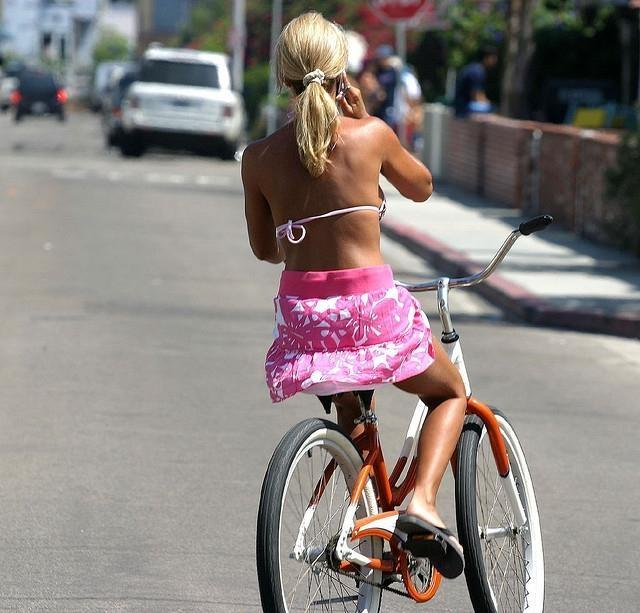bicycle: (259, 210, 562, 606)
car: (120, 42, 247, 158), (11, 62, 68, 127), (105, 68, 141, 146)
